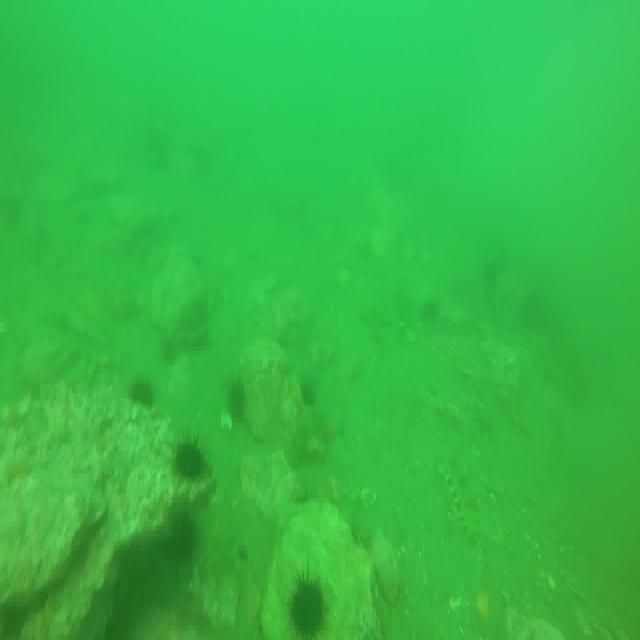echinus: (292, 576, 326, 638), (163, 518, 197, 558), (175, 437, 207, 475), (290, 487, 315, 526), (225, 381, 248, 421), (298, 372, 320, 408), (134, 376, 156, 410)
holothurian: (444, 454, 488, 545)
